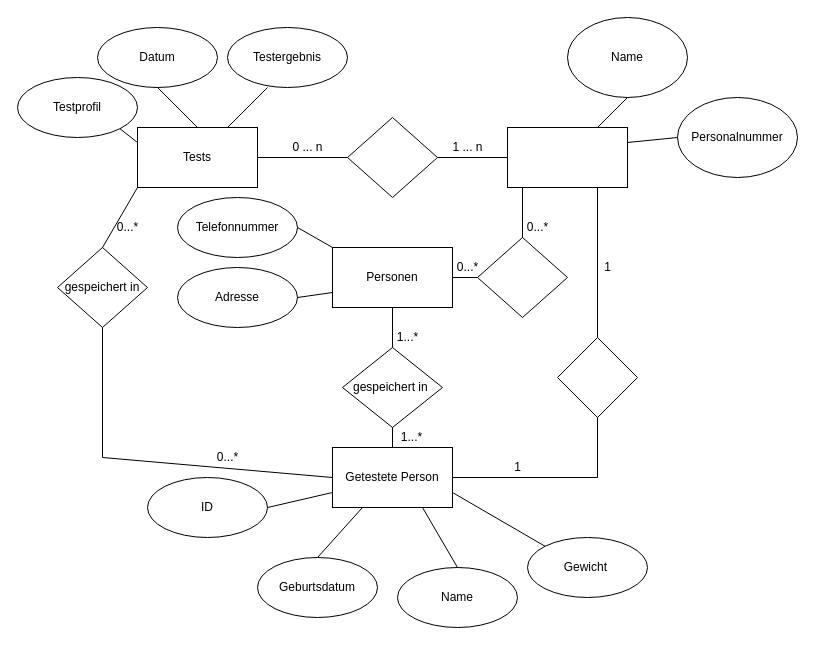
Image size: 815x645. Some labels were removed from this diagram. Here are the shapes that lost their labels. From the top down, the box of each, then its label:
(346, 116, 438, 198): zugriff auf
(506, 126, 628, 188): Diagnostiker:in
(476, 236, 568, 318): protokolliert in
(556, 336, 638, 418): arbeitet mit
